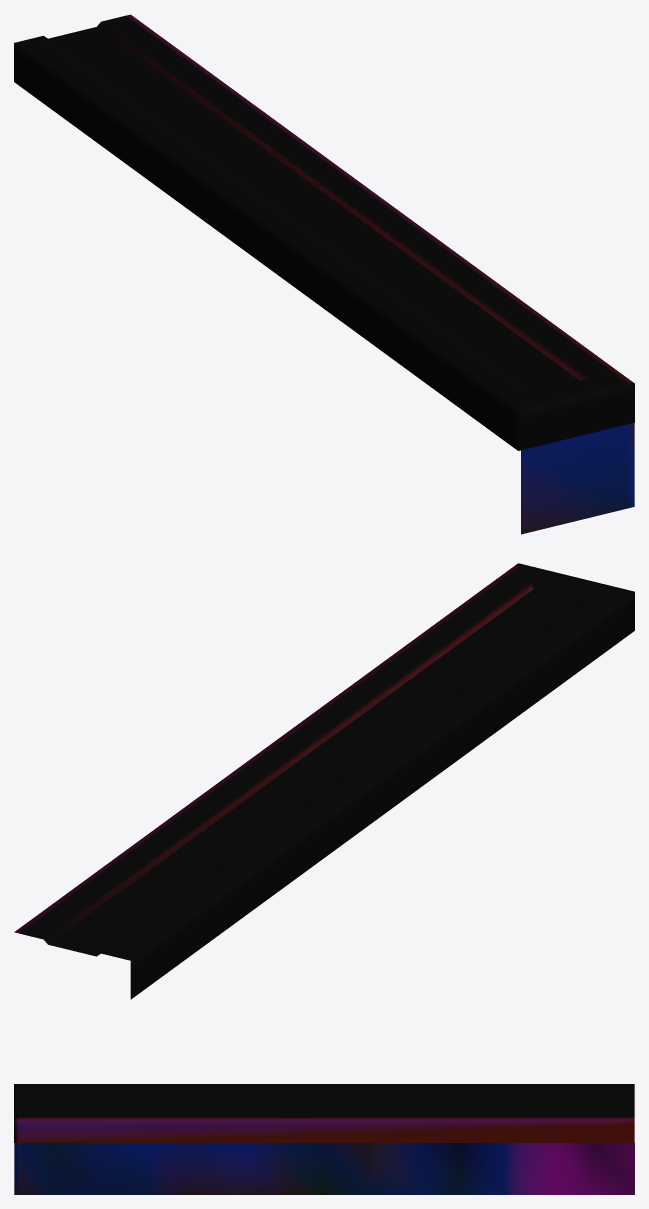
The model's file is CHN_PondWall01.gltf.
3 renders of one model, top to bottom at view 1: azimuth 30°, elevation 25°; view 2: azimuth 150°, elevation 25°; view 3: azimuth 270°, elevation 25°, orthographic. The views are drawn at different scales.
Visible parts, largest first — view 1: CHN_PondWall01; view 2: CHN_PondWall01; view 3: CHN_PondWall01.
Part boxes in pixels (x1,y1,x2,y2): CHN_PondWall01: (14, 14, 634, 534); CHN_PondWall01: (14, 563, 634, 999); CHN_PondWall01: (14, 1084, 634, 1194).
Bounding box in the file's own units: 2.3 × 2.32 × 17.19.
